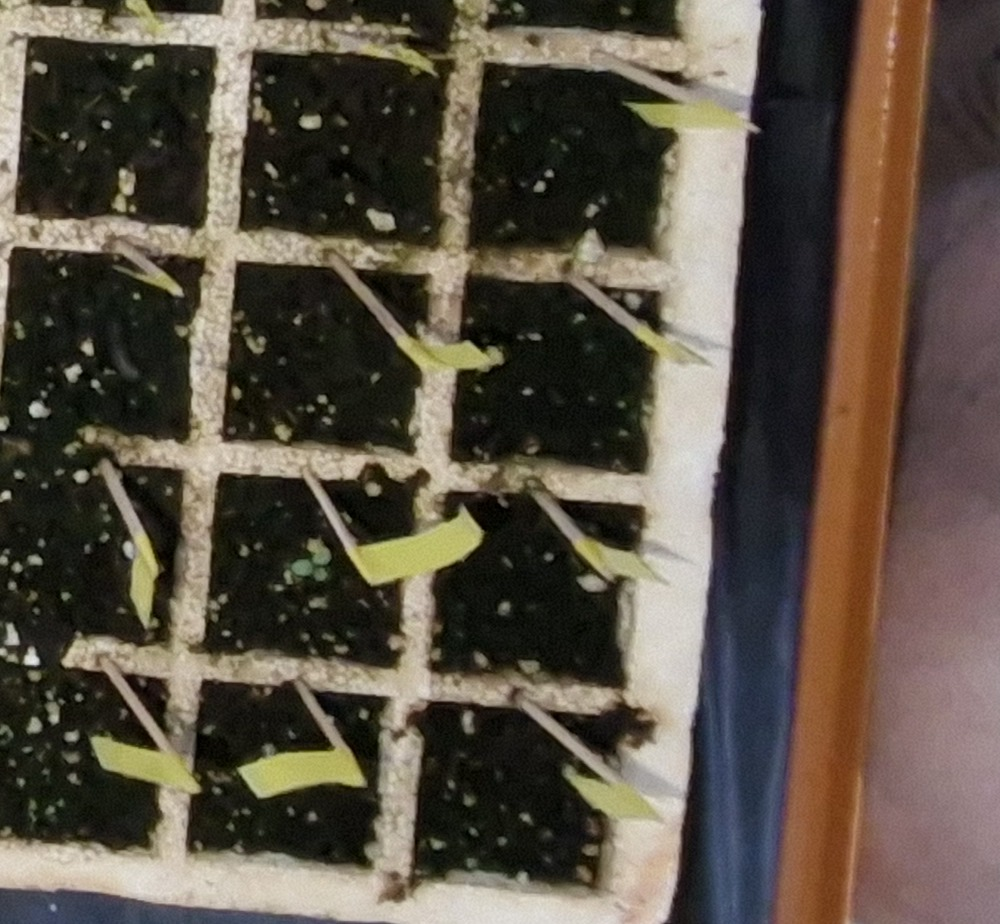Folha: (291, 559, 314, 575), (313, 548, 332, 566), (313, 568, 328, 581)
Germinacao: (291, 549, 332, 580)
